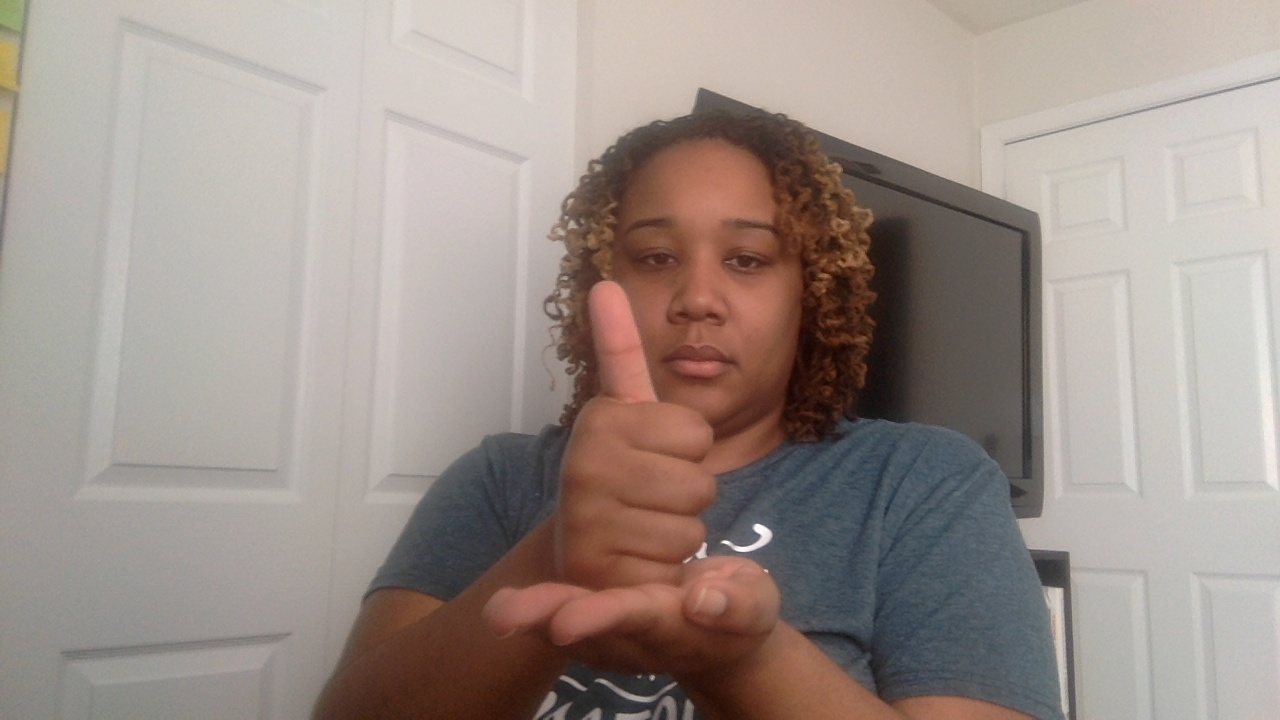help: (457, 277, 787, 707)
